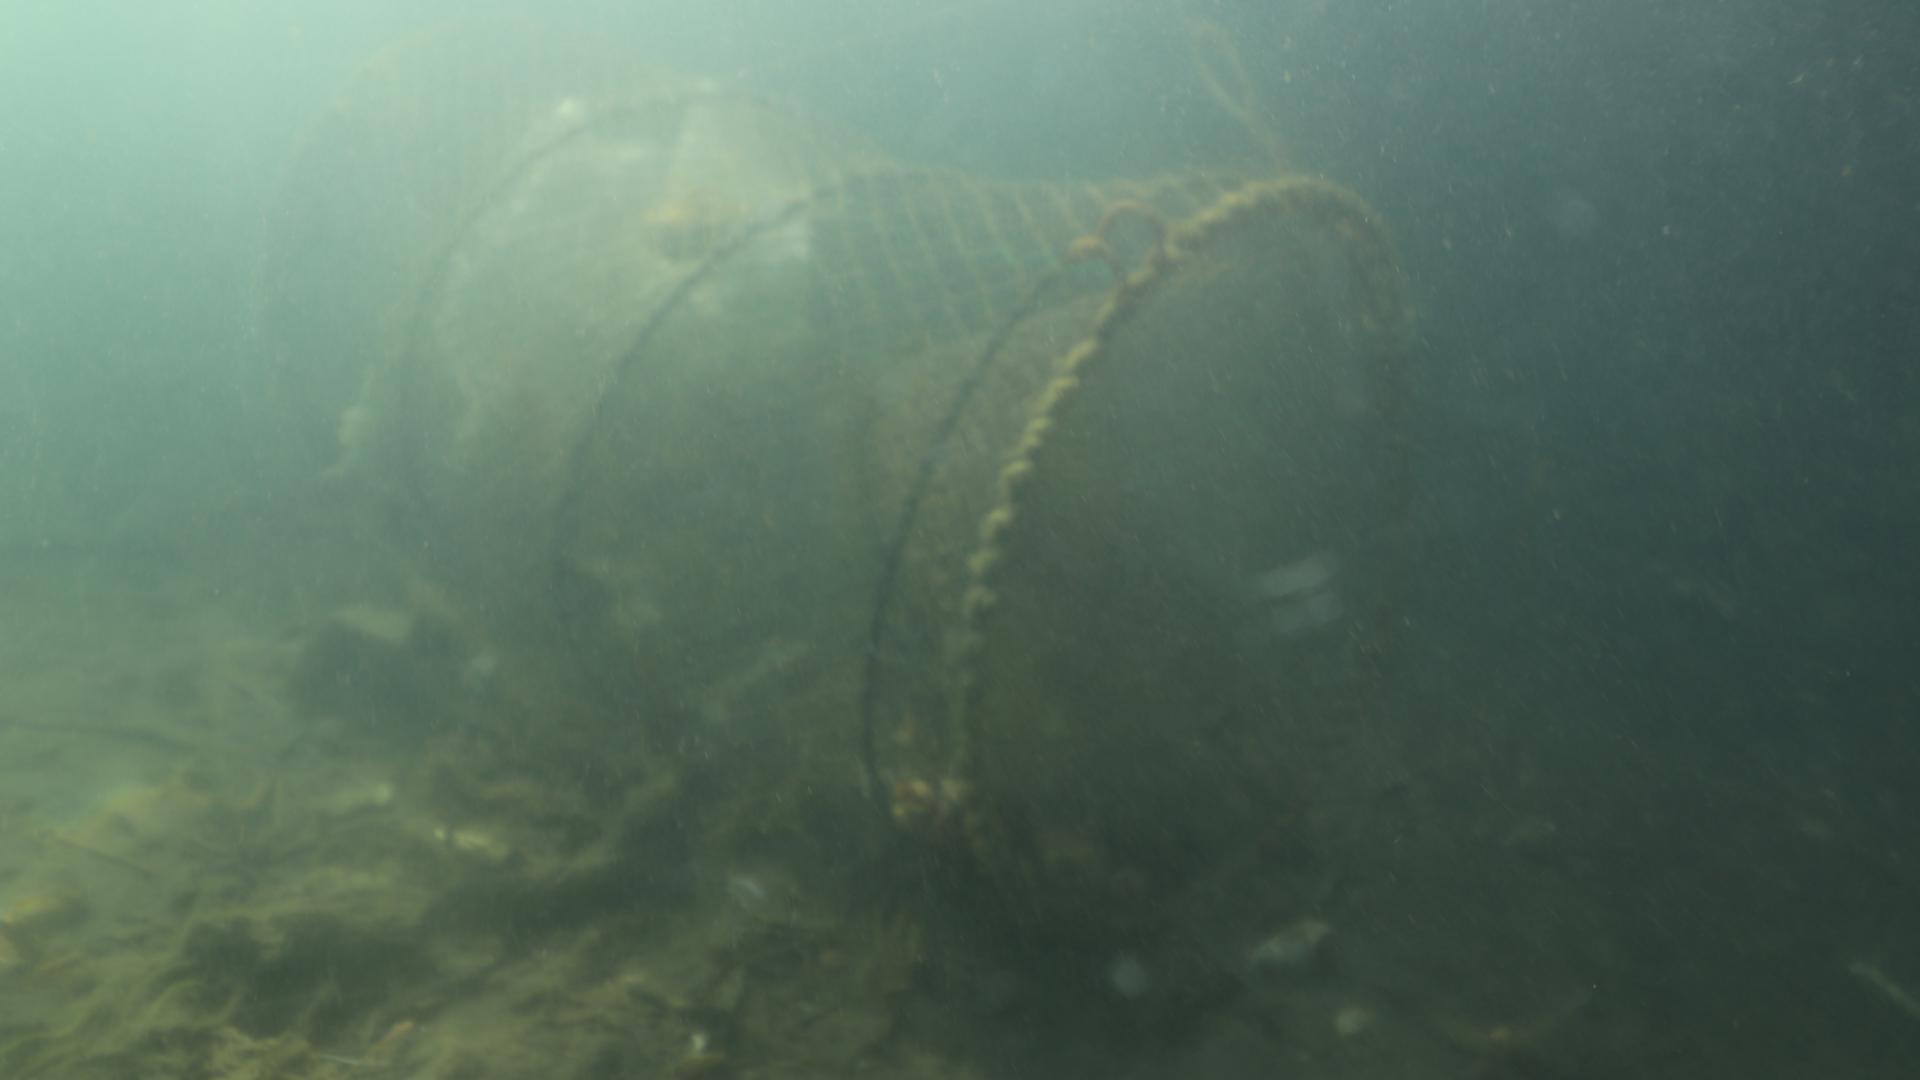spring fish trap: (368, 76, 1414, 955)
